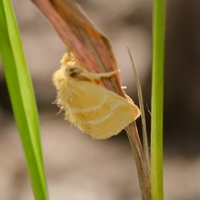insect: (53, 52, 139, 138)
